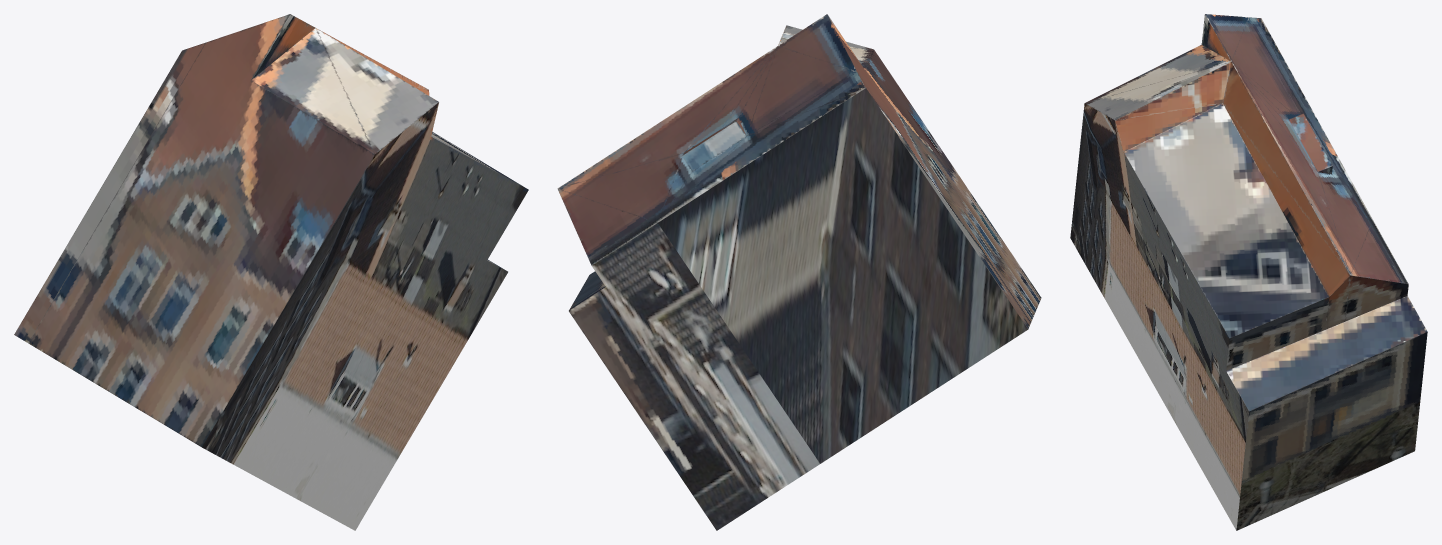
3 views of the same model, side by side, from view 1: azimuth 30°, elevation 25°; view 2: azimuth 150°, elevation 25°; view 3: azimuth 270°, elevation 25° (orthographic). The views are drawn at different scales.
Parts seen in each view (by area): view 1: BAG_0599100000760381 (×4); view 2: BAG_0599100000760381 (×6); view 3: BAG_0599100000760381 (×6).
Part boxes in pixels (x1=…): BAG_0599100000760381 (×4): x1=14, y1=14, x2=528, y2=530; BAG_0599100000760381 (×6): x1=558, y1=14, x2=1041, y2=530; BAG_0599100000760381 (×6): x1=1070, y1=14, x2=1427, y2=530.
Bounding box in the file's own units: 21.05 × 21.94 × 14.76.
7 materials, 7 textured.
